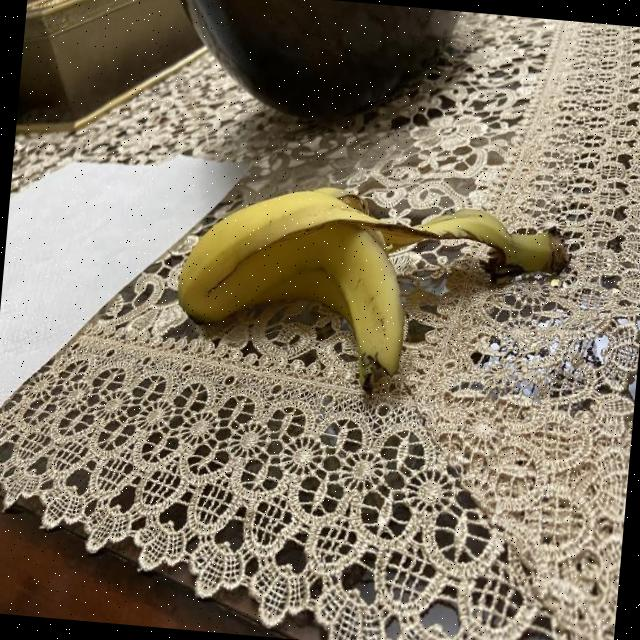banana-peel: (168, 172, 574, 405)
